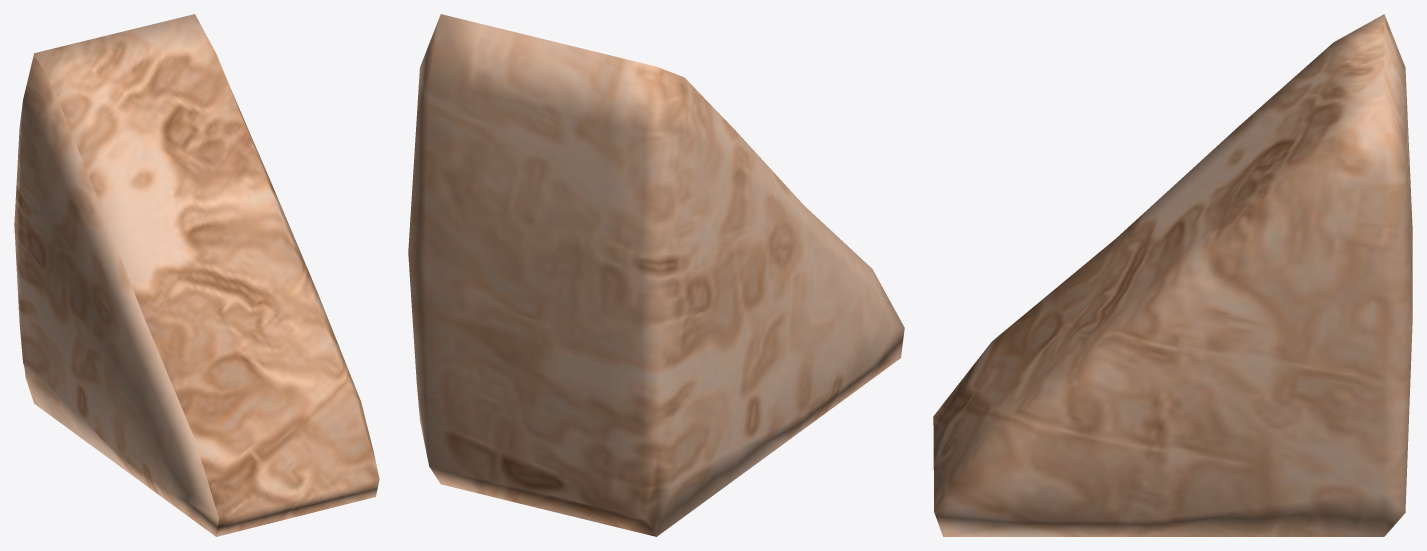
Rendered from RockyHill.fbx.
The picture shows the model from 3 angles, left to right: view 1: azimuth 30°, elevation 25°; view 2: azimuth 150°, elevation 25°; view 3: azimuth 270°, elevation 25°; orthographic projection. The views are drawn at different scales.
Visible parts, largest first — view 1: pCube1; view 2: pCube1; view 3: pCube1.
Part boxes in pixels (x1,y1,x2,y2): pCube1: (14,14,379,536); pCube1: (408,14,904,536); pCube1: (933,14,1412,536).
Size of the model in its own units: 1 by 1.71 by 1.73.
